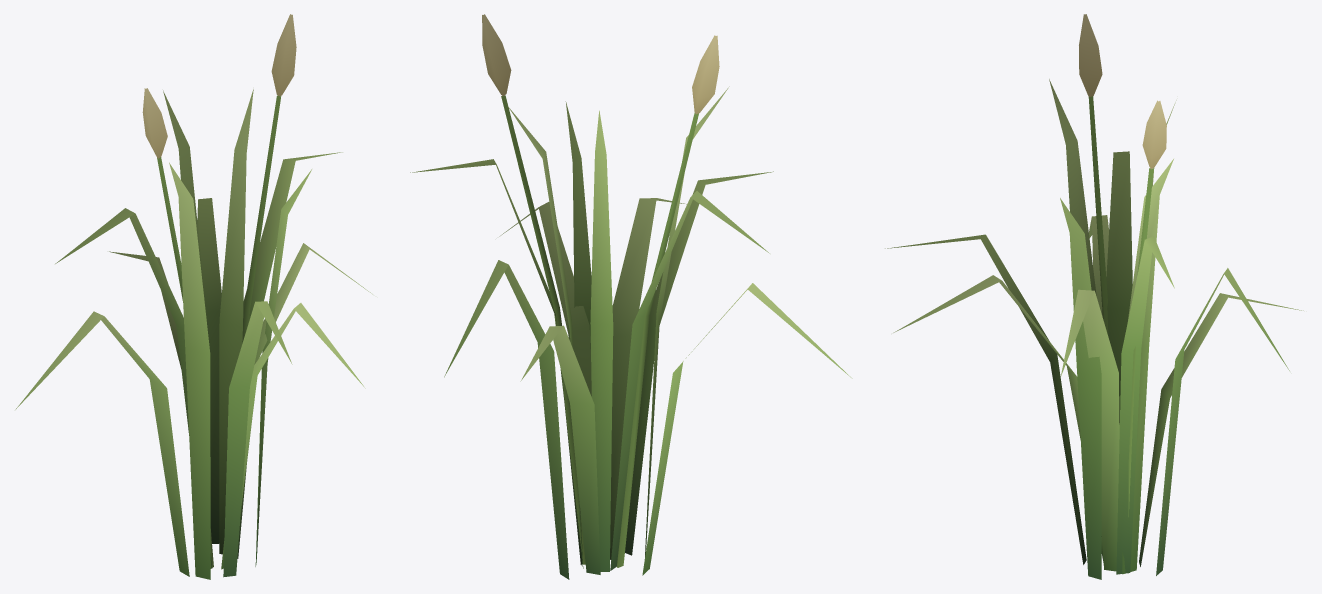
File: deco-tallgrass-low.glb
3 views of the same model, side by side, from view 1: azimuth 30°, elevation 25°; view 2: azimuth 150°, elevation 25°; view 3: azimuth 270°, elevation 25° (orthographic). The views are drawn at different scales.
Parts seen in each view (by area): view 1: 0_tallgrass; view 2: 0_tallgrass; view 3: 0_tallgrass.
Part boxes in pixels (<box>): 0_tallgrass: <box>15,14,372,579</box>; 0_tallgrass: <box>410,14,852,579</box>; 0_tallgrass: <box>885,14,1303,579</box>.
Bounding box in the file's own units: 0.871 × 1.13 × 0.8567.
